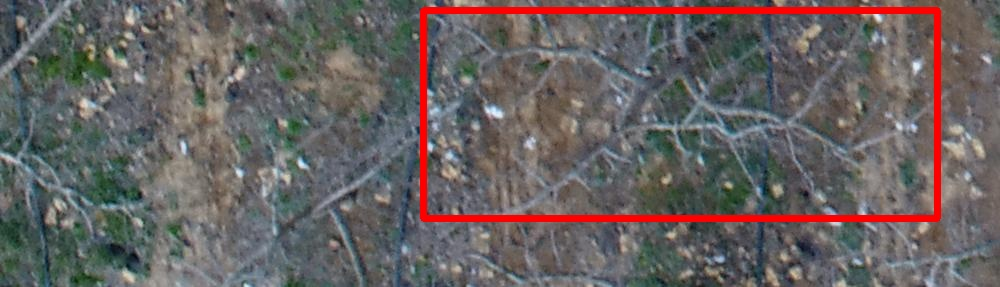apple: (423, 10, 937, 218)
